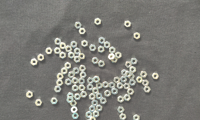nut: (26, 91, 33, 99), (31, 58, 38, 66), (35, 100, 43, 107), (65, 62, 72, 70), (55, 38, 62, 46), (71, 41, 78, 49), (78, 53, 86, 60), (72, 77, 79, 85), (93, 76, 100, 84), (109, 82, 116, 90), (99, 37, 106, 45), (108, 54, 116, 61), (134, 32, 141, 40), (130, 66, 137, 74), (142, 80, 150, 87), (152, 73, 160, 80), (51, 98, 58, 105), (46, 48, 53, 55), (56, 80, 63, 87), (61, 68, 68, 75), (54, 47, 61, 54), (60, 43, 67, 50), (65, 46, 72, 53), (68, 52, 75, 59), (74, 48, 81, 55), (74, 56, 81, 63), (72, 113, 79, 120), (71, 107, 78, 114), (67, 97, 74, 104), (67, 93, 74, 100), (65, 79, 72, 86), (68, 72, 75, 79), (73, 68, 80, 75), (72, 85, 79, 92), (74, 94, 81, 101), (81, 91, 88, 98), (79, 85, 86, 92), (80, 72, 87, 79), (79, 65, 86, 72), (79, 28, 86, 35), (75, 22, 82, 29), (86, 112, 93, 119), (89, 106, 96, 113), (93, 111, 100, 118), (96, 105, 103, 112), (89, 94, 96, 101), (96, 93, 103, 100), (100, 98, 107, 105), (90, 45, 97, 52), (98, 46, 105, 53), (104, 42, 111, 49), (109, 47, 116, 54), (114, 77, 121, 84), (125, 21, 132, 28), (118, 107, 125, 114), (124, 95, 131, 102), (127, 89, 134, 96), (121, 76, 128, 83), (124, 83, 131, 90), (125, 71, 132, 78), (128, 73, 135, 80), (131, 58, 138, 65), (38, 54, 44, 62), (54, 87, 62, 93), (95, 18, 101, 26), (57, 74, 64, 80), (60, 52, 66, 59), (70, 101, 77, 107), (79, 78, 85, 85), (82, 40, 88, 47), (92, 100, 98, 107), (87, 85, 94, 91), (87, 78, 94, 84), (93, 88, 99, 95), (97, 83, 103, 90), (103, 82, 109, 89), (105, 90, 111, 97), (112, 88, 118, 95), (92, 58, 99, 64), (99, 61, 105, 68), (116, 52, 122, 59), (120, 114, 127, 120), (118, 96, 124, 103), (117, 83, 124, 89), (129, 80, 136, 86), (122, 70, 128, 77), (125, 62, 132, 68), (137, 77, 143, 84), (141, 72, 148, 78), (144, 87, 151, 93), (112, 57, 118, 63), (133, 115, 140, 120), (90, 117, 96, 120)
